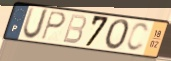7: (84, 14, 110, 48)
B: (60, 13, 88, 46)
C: (125, 21, 150, 53)
O: (104, 18, 132, 52)
P: (40, 9, 67, 41)
U: (21, 6, 51, 42)
